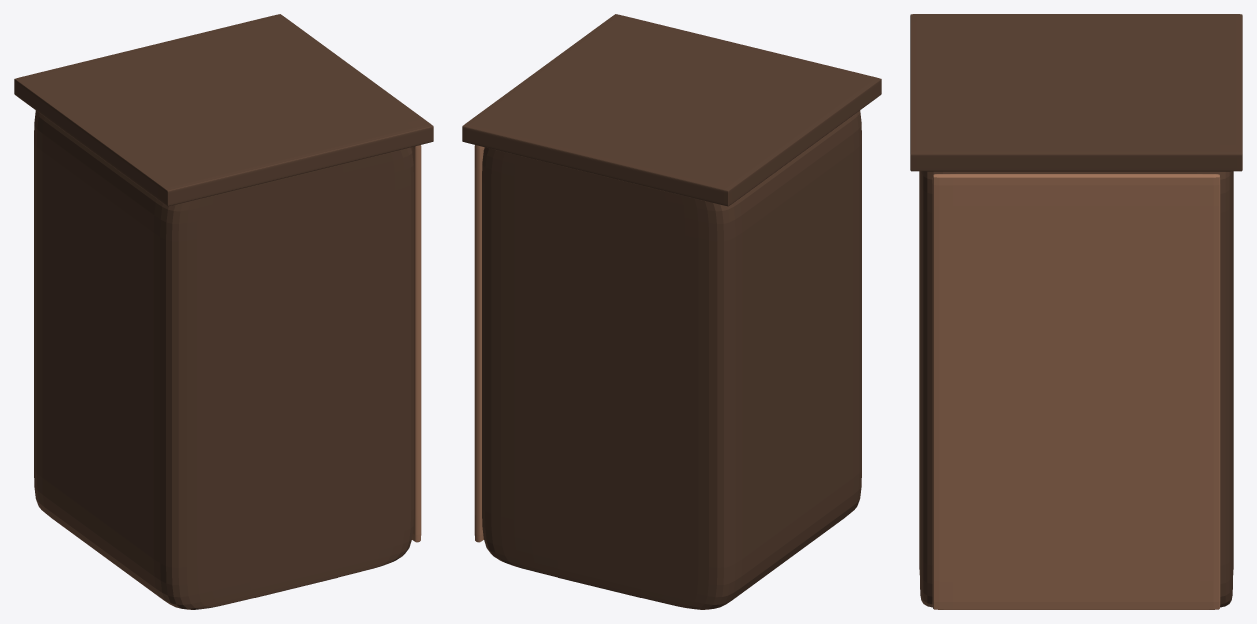
File: table.fbx
The picture shows the model from 3 angles, left to right: view 1: azimuth 30°, elevation 25°; view 2: azimuth 150°, elevation 25°; view 3: azimuth 270°, elevation 25°; orthographic projection. The views are drawn at different scales.
Parts seen in each view (by area): view 1: corps, support_domophone, porte; view 2: corps, support_domophone, porte; view 3: porte, support_domophone, corps.
Part boxes in pixels (x1,y1,x2,y2): corps: [34, 110, 413, 609]; support_domophone: [14, 14, 433, 206]; porte: [411, 145, 421, 542]; corps: [482, 110, 861, 609]; support_domophone: [462, 14, 881, 206]; porte: [474, 145, 484, 542]; porte: [932, 174, 1220, 609]; support_domophone: [910, 14, 1242, 171]; corps: [919, 171, 1233, 607].
Bounding box in the file's own units: 3.39 × 5.26 × 3.39.
